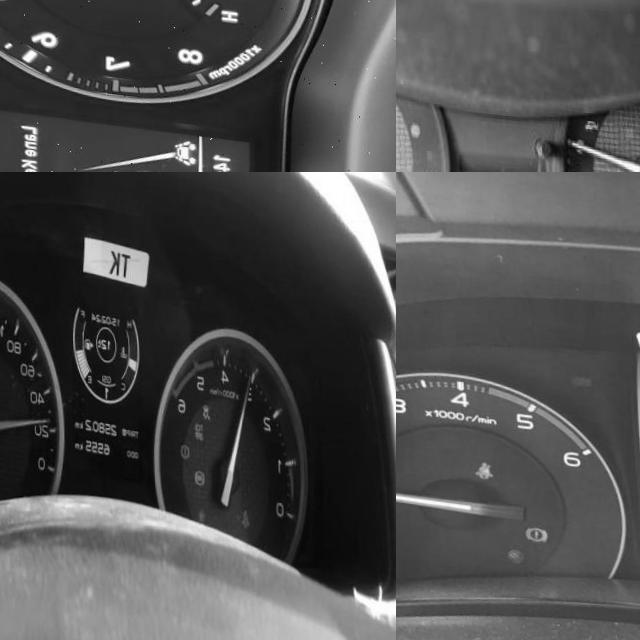Seat Belt: (473, 456, 492, 478), (239, 499, 249, 520)
